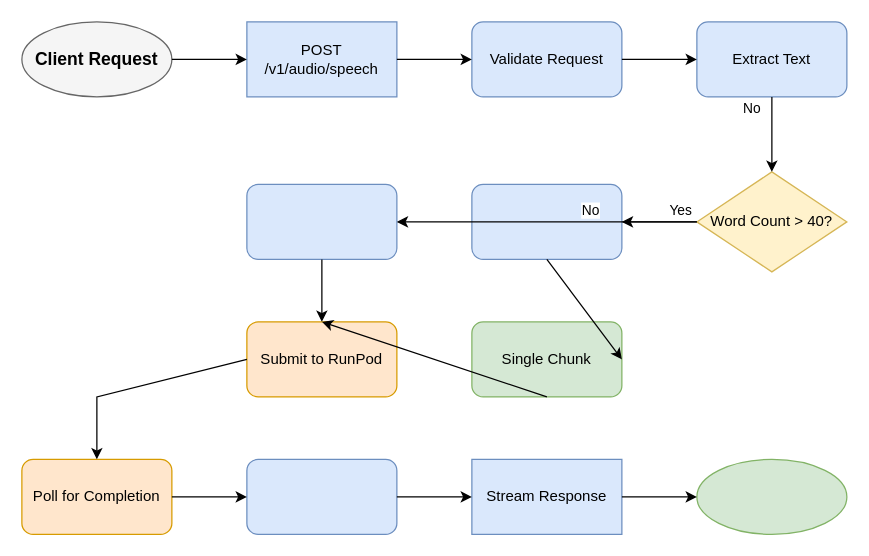
The diagram is 869 pixels wide and 556 high, and some of its shapes have lost their labels. Here are the shapes that lost their labels. From the top down, the centre of each, then its label:
point 321,221: Multiple Chunks
point 546,221: Split Text into Chunks
point 321,496: Collect Audio
point 771,496: Client Receives Audio
